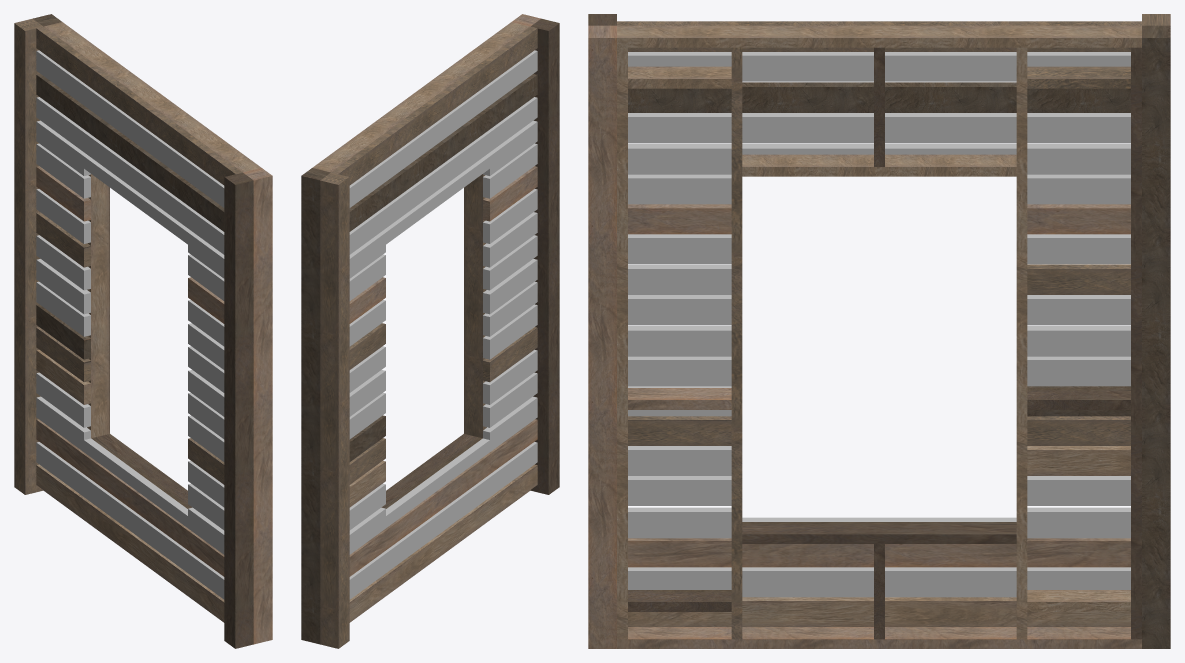
Rendered from WoodWallAWindow.fbx.
3 views of the same model, side by side, from view 1: azimuth 30°, elevation 25°; view 2: azimuth 150°, elevation 25°; view 3: azimuth 270°, elevation 25° (orthographic). The views are drawn at different scales.
Visible parts, largest first — view 1: WoodWallAWindow; view 2: WoodWallAWindow; view 3: WoodWallAWindow.
Part boxes in pixels (x1,y1,x2,y2): WoodWallAWindow: (14, 14, 272, 648); WoodWallAWindow: (301, 14, 559, 648); WoodWallAWindow: (588, 14, 1170, 648).
Size of the model in its own units: 31.5 by 374 by 323.
